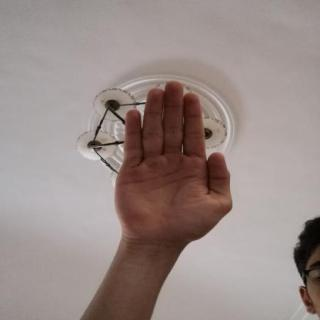SEEN: (106, 75, 240, 247)
